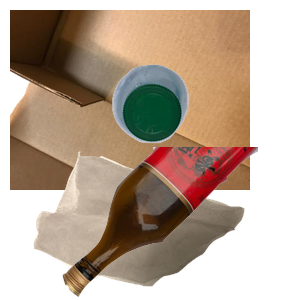cardboard: (10, 10, 250, 190)
glass: (60, 147, 300, 300)
plastic: (110, 62, 300, 198)
trash: (31, 149, 268, 300)
